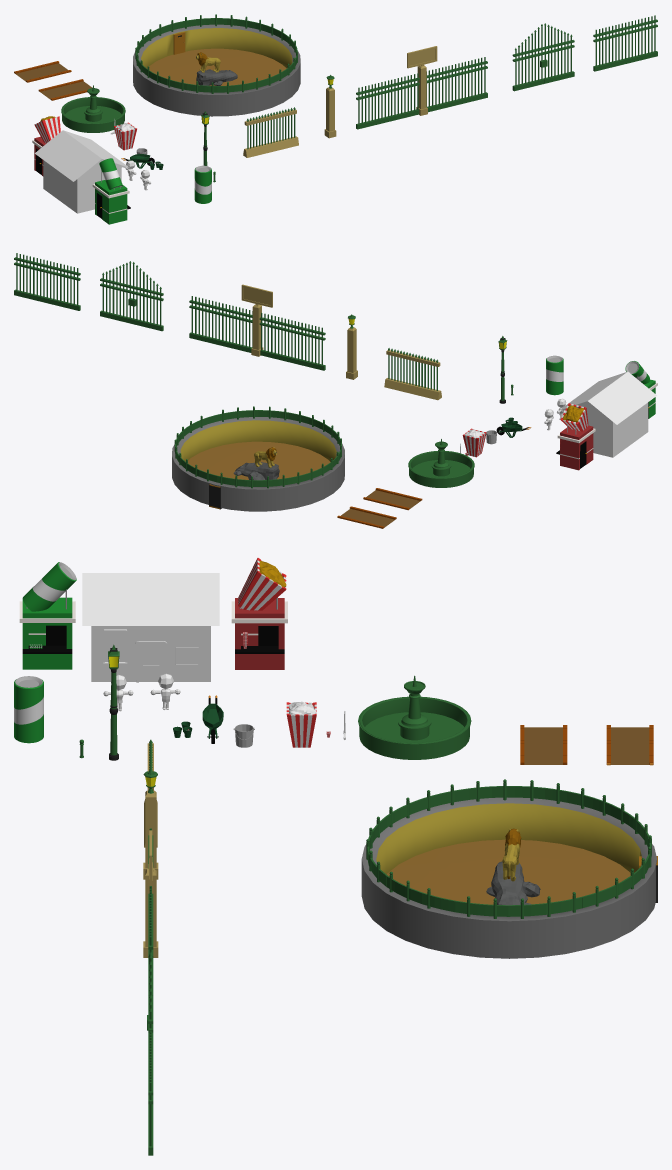
Rendered from Stuff_Room.fbx.
3 renders of one model, top to bottom at view 1: azimuth 30°, elevation 25°; view 2: azimuth 150°, elevation 25°; view 3: azimuth 270°, elevation 25°, orthographic. The views are drawn at different scales.
Visible parts, largest first — view 1: Plane.005, Cube.001, Cube.037, Circle, Cylinder.017, Cylinder.010, Cylinder.008, Cylinder.013, Cylinder.009, Gırıs_stun, Cylinder.021, Cylinder.011 (+12 smaller); view 2: Plane.005, Cube.001, Cube.037, Circle, Sphere, Cylinder.010, Cylinder.013, Cylinder.008, Cylinder.009, Gırıs_stun, Cylinder.011, Cylinder.021 (+10 smaller); view 3: Plane.005, Cube.001, Cube.037, Circle, Sphere, Cylinder.017, Cylinder.021, Cylinder.007, Road, Road.001, Cube.029, Gırıs_stun (+3 smaller).
Boxes of the visible parts, x1,y1,x2,y2 form: Plane.005: (133,24,300,116); Cube.001: (35,130,129,213); Cube.037: (135,18,297,92); Circle: (61,85,125,132); Cylinder.017: (92,158,130,224); Cylinder.010: (515,25,571,85); Cylinder.008: (358,73,418,124); Cylinder.013: (595,15,655,66); Cylinder.009: (426,57,485,106); Gırıs_stun: (407,46,437,115); Cylinder.021: (135,14,297,93); Cylinder.011: (247,114,295,149); Plane.005: (172,417,344,511); Cube.001: (559,371,656,457); Cube.037: (175,410,341,486); Circle: (408,439,474,487); Sphere: (556,403,595,470); Cylinder.010: (102,263,161,325); Cylinder.013: (16,253,78,305); Cylinder.008: (261,312,322,365); Cylinder.009: (191,296,252,347); Gırıs_stun: (241,284,272,356); Cylinder.011: (388,355,437,390); Cylinder.021: (174,406,341,488); Plane.005: (361,797,656,958); Cube.001: (82,573,219,682); Cube.037: (367,786,651,916); Circle: (358,675,471,759); Sphere: (231,558,287,669); Cylinder.017: (19,562,76,669); Cylinder.021: (366,779,651,918); Cylinder.007: (14,676,43,743); Road: (524,727,562,764); Road.001: (611,727,649,764); Cube.029: (491,861,527,905); Gırıs_stun: (143,830,158,957).
Bounding box in the file's own units: 8158 × 1123 × 4297.
